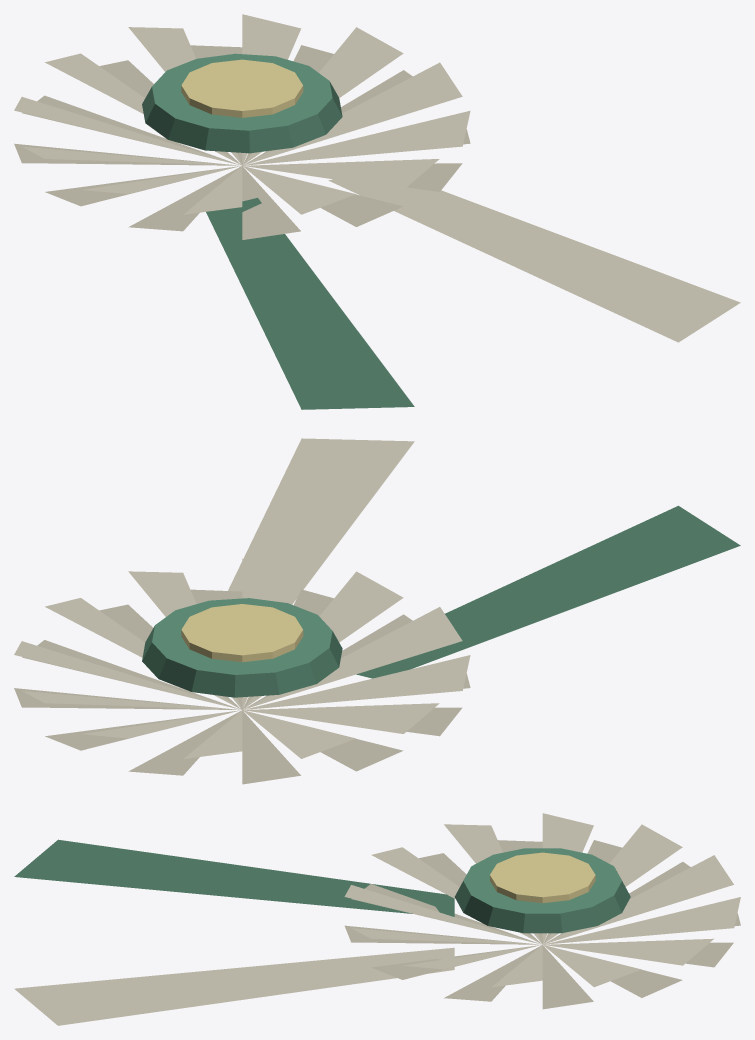
Rendered from festival_rosette_a.glb.
The picture shows the model from 3 angles, top to bottom: view 1: azimuth 30°, elevation 25°; view 2: azimuth 150°, elevation 25°; view 3: azimuth 270°, elevation 25°; orthographic projection. The views are drawn at different scales.
Parts seen in each view (by area): view 1: body; view 2: body; view 3: body.
Boxes of the visible parts, <box> form: body: <box>14,14,740,409</box>; body: <box>14,438,740,784</box>; body: <box>14,813,740,1025</box>.
Size of the model in its own units: 0.1 by 0.0175 by 0.165.
